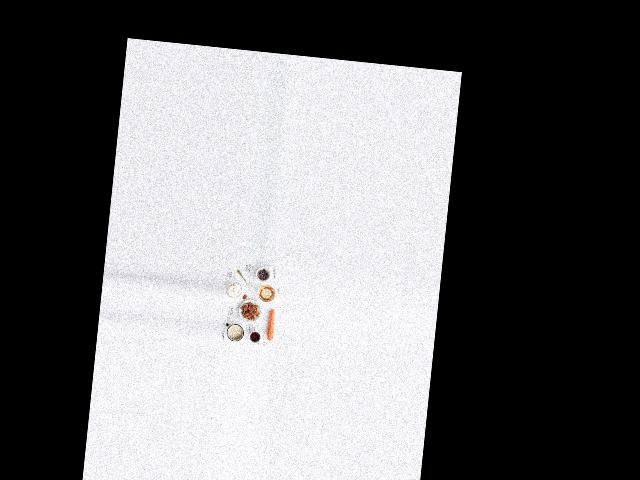carrot: (262, 305, 277, 343)
